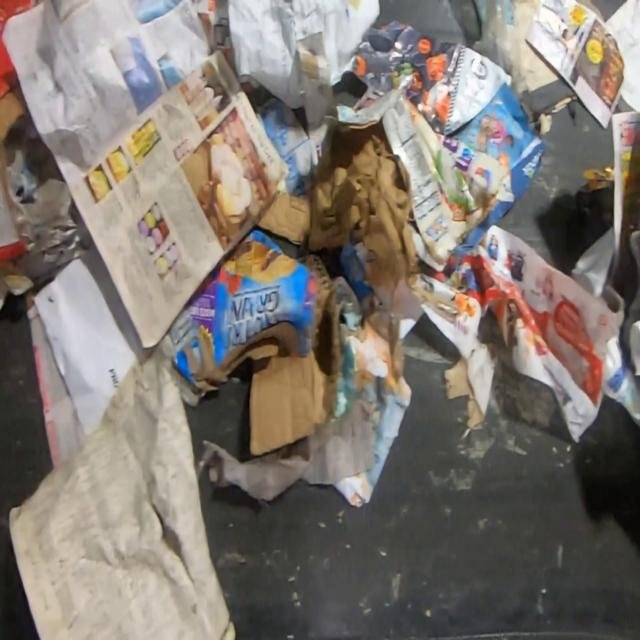cardboard: (156, 224, 339, 457), (256, 127, 419, 281)
soft_plastic: (470, 3, 527, 109)
